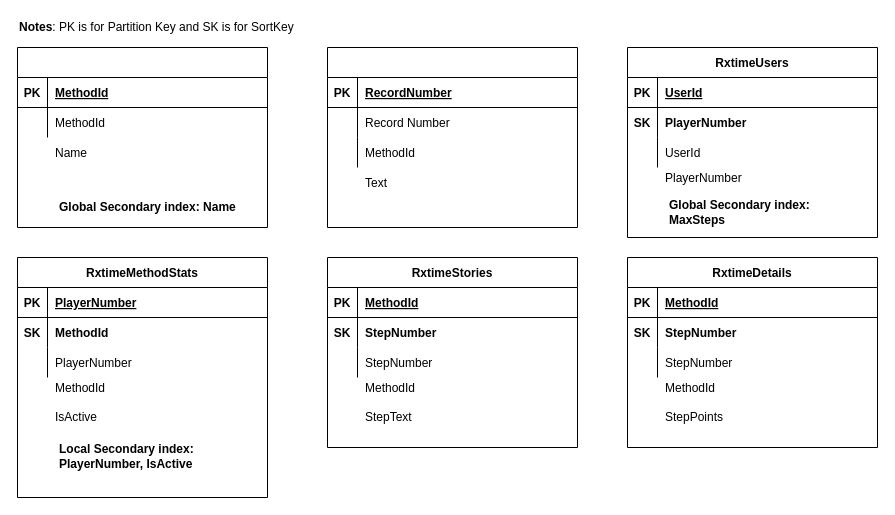
Image size: 895x515. Some labels were removed from this diagram. The box of each missing label's shape, as (x1, y1, x2, y2) in pixels:
RxtimeFunFacts: (326, 46, 578, 228)
RxtimeMethods: (16, 46, 268, 228)
